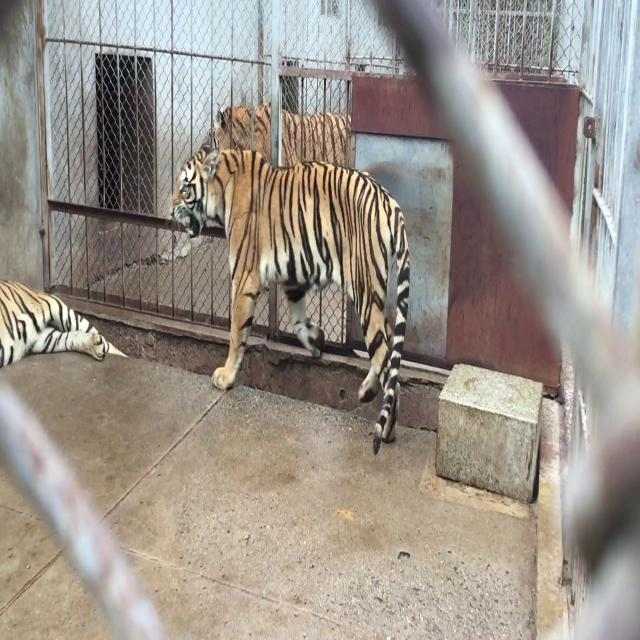Tiger: (155, 126, 420, 465), (0, 271, 119, 367), (202, 101, 356, 169)
